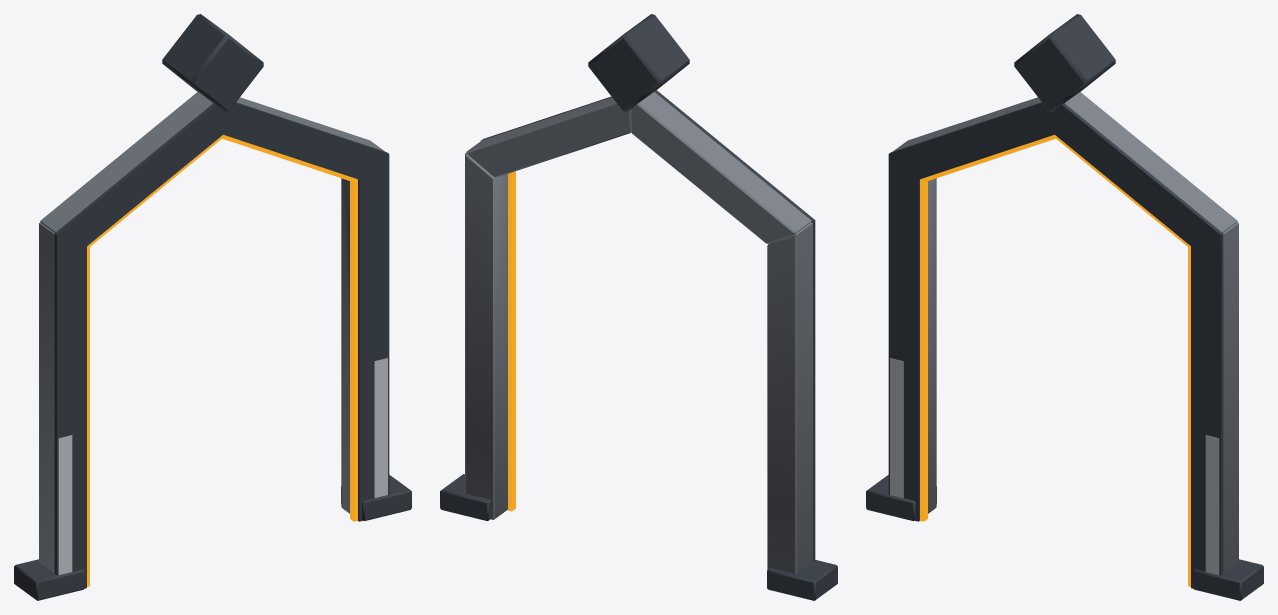
The model's file is doorframe_peaked_gable.glb.
3 renders of one model, left to right at view 1: azimuth 30°, elevation 25°; view 2: azimuth 150°, elevation 25°; view 3: azimuth 330°, elevation 25°, orthographic.
Parts seen in each view (by area): view 1: doorframe_peaked_gable; view 2: doorframe_peaked_gable; view 3: doorframe_peaked_gable.
Part boxes in pixels (x1,y1,x2,y2): doorframe_peaked_gable: [14, 14, 411, 600]; doorframe_peaked_gable: [440, 14, 837, 600]; doorframe_peaked_gable: [866, 14, 1263, 600].
Size of the model in its own units: 2.76 by 3.67 by 0.4.
